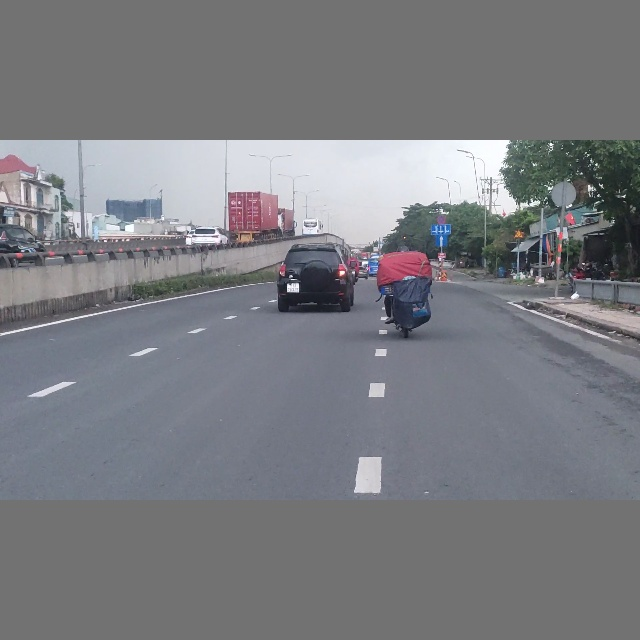I.407a: (435, 235, 448, 247)
P.130: (437, 216, 447, 224)
W.246a: (514, 229, 523, 238)
